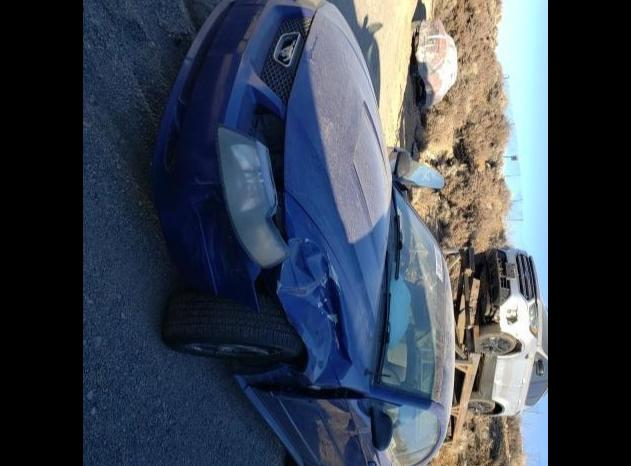Broken part: (236, 233, 369, 400), (214, 124, 288, 268), (246, 100, 290, 242), (252, 258, 288, 312)
Dent: (192, 182, 242, 262), (284, 204, 296, 233)
Flaking: (232, 12, 256, 56)
Scratch: (276, 256, 340, 346), (286, 236, 316, 246), (280, 260, 284, 272)
